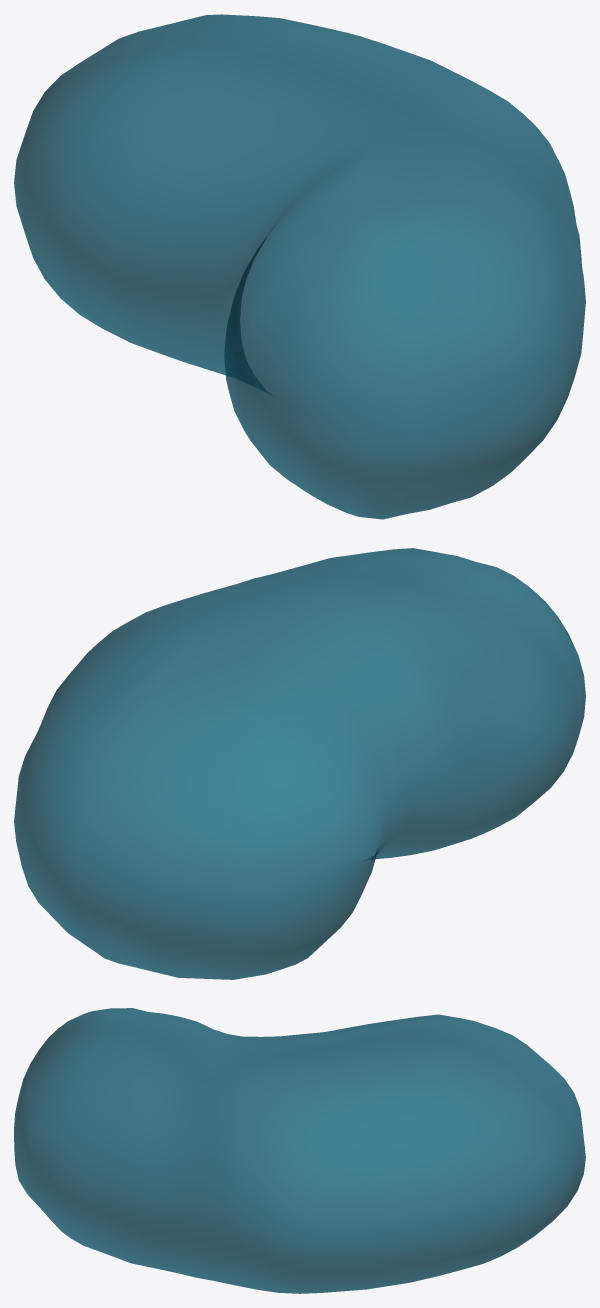
Rendered from Vacuole.FBX.
The picture shows the model from 3 angles, top to bottom: view 1: azimuth 30°, elevation 25°; view 2: azimuth 150°, elevation 25°; view 3: azimuth 270°, elevation 25°; orthographic projection. The views are drawn at different scales.
Visible parts, largest first — view 1: Vacuole_Vacuole_Plant_Cell; view 2: Vacuole_Vacuole_Plant_Cell; view 3: Vacuole_Vacuole_Plant_Cell.
Boxes of the visible parts, x1,y1,x2,y2 form: Vacuole_Vacuole_Plant_Cell: (14, 14, 585, 519); Vacuole_Vacuole_Plant_Cell: (14, 548, 585, 979); Vacuole_Vacuole_Plant_Cell: (14, 1008, 585, 1293).
Bounding box in the file's own units: 60.17 × 39.79 × 95.07.
